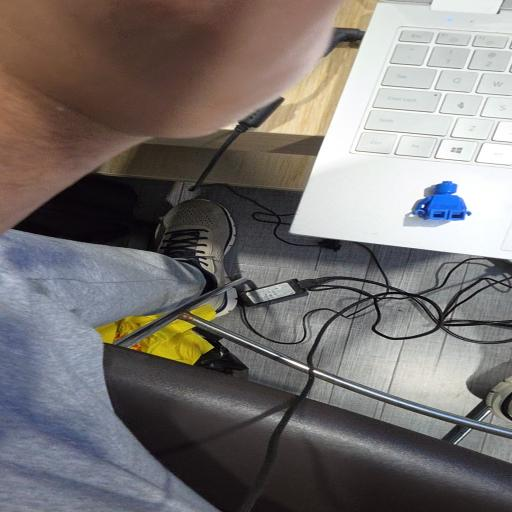Blue: (412, 181, 471, 221)
